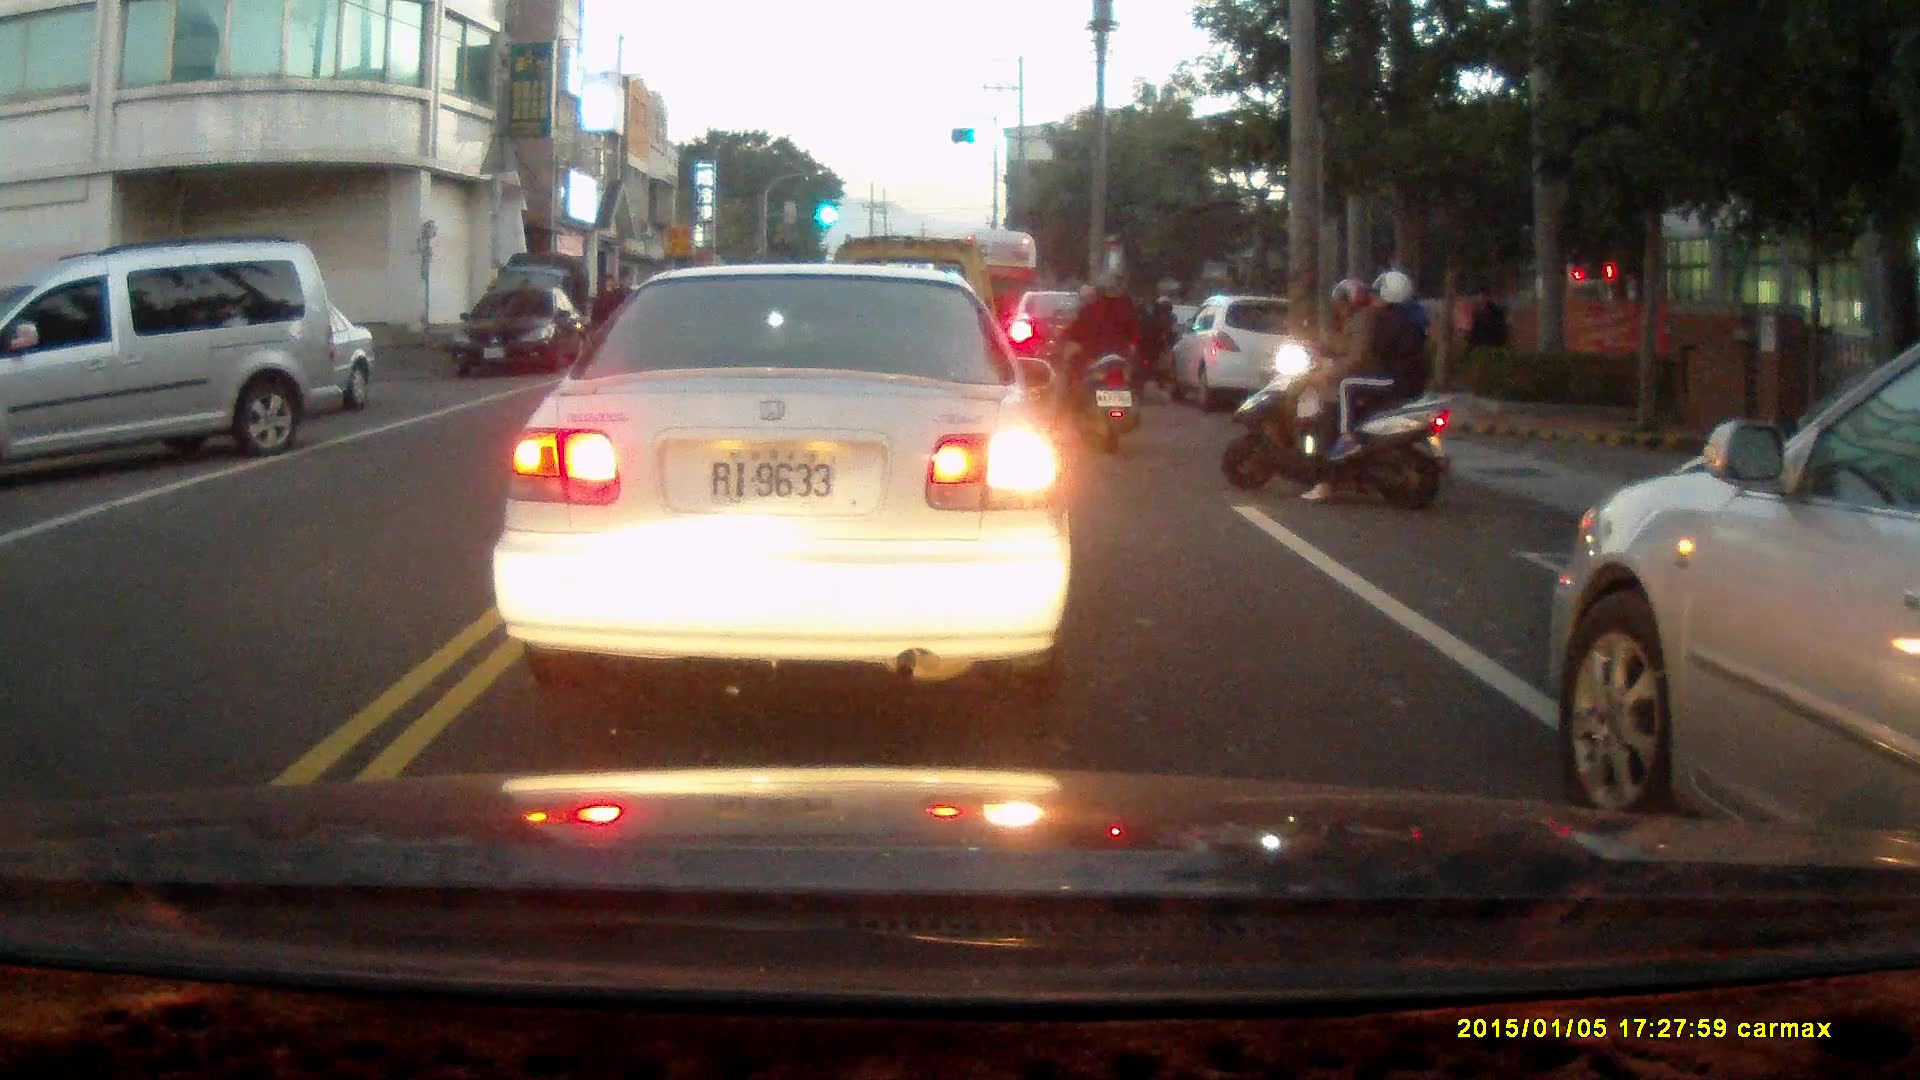pedestrian: (1463, 279, 1507, 377), (589, 274, 623, 360)
rider: (1212, 271, 1448, 513), (1048, 267, 1137, 453), (1143, 295, 1177, 386)
vehicle: (511, 262, 1064, 668), (1548, 323, 1919, 852), (1, 243, 356, 481), (1162, 294, 1331, 409), (1003, 287, 1140, 398), (458, 284, 586, 379)
